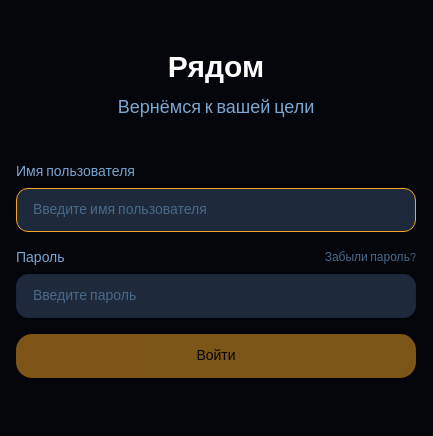
Test: AuthFlow › translates failed sign-in and preserves the entered credentials
Type "owner" into the field labelled "Имя пользователя".
click(216, 210); type("owner")  # box [16, 188, 416, 232]
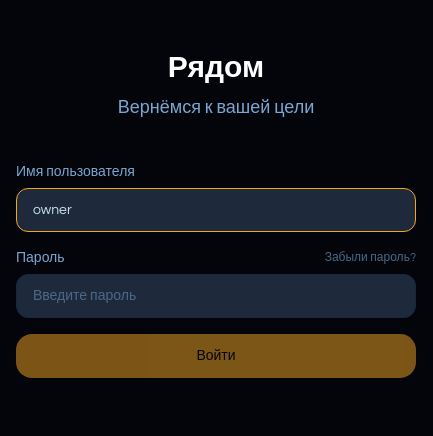
Type "wrong-password" into the password field labelled "Пароль".
click(216, 296); type("wrong-password")  # box [16, 274, 416, 318]
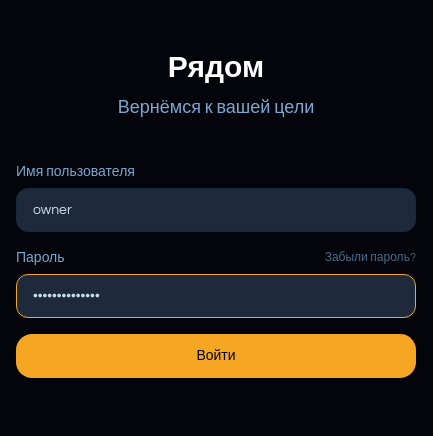
Click the button "Войти".
click(216, 356)  # box [16, 334, 416, 378]
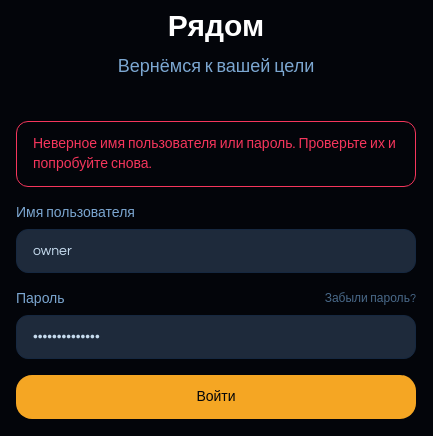
Expected: the message shows "Неверное имя пользователя или пароль", [33, 137, 396, 171]
